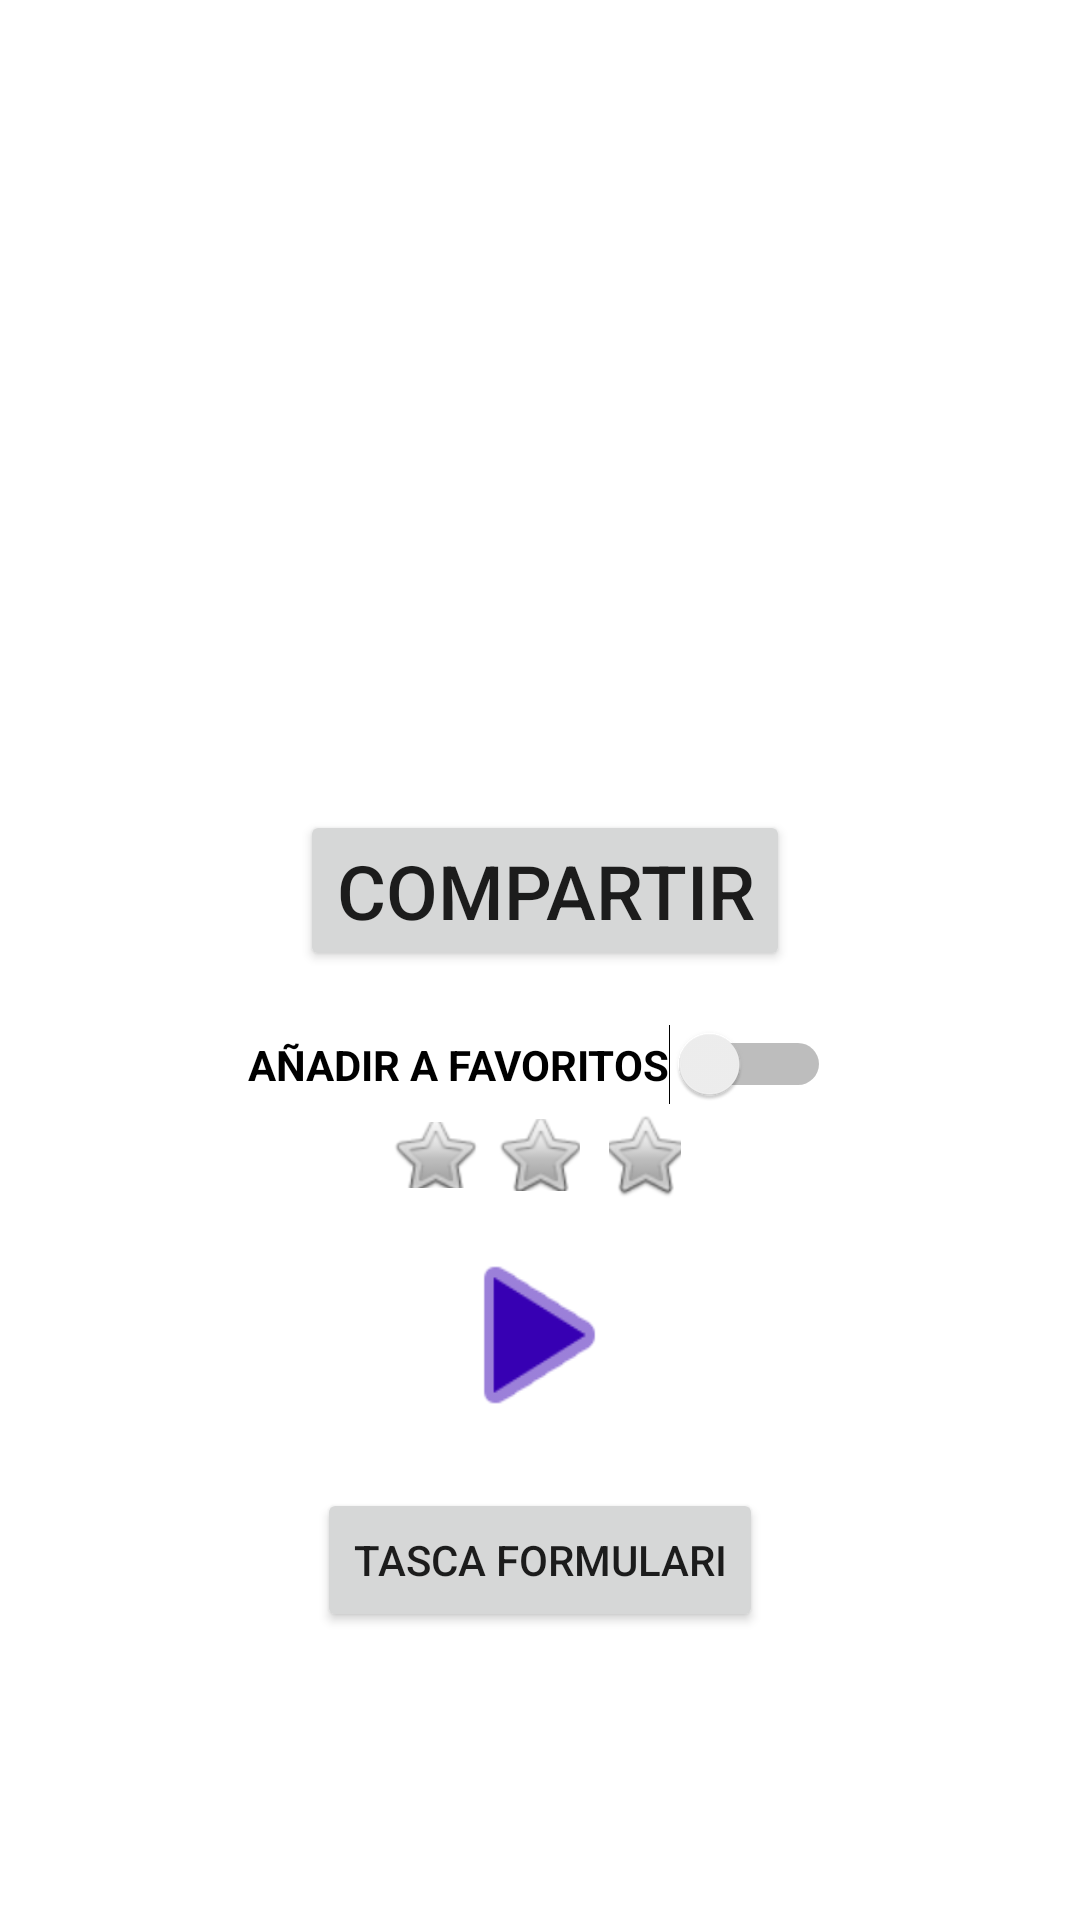

Icons on this 1080 × 1920 Android screen, each with the point to tap as (x=x, y=y):
Fav star: (x=645, y=1156), (x=540, y=1155), (x=436, y=1155)
play: (x=539, y=1335)
